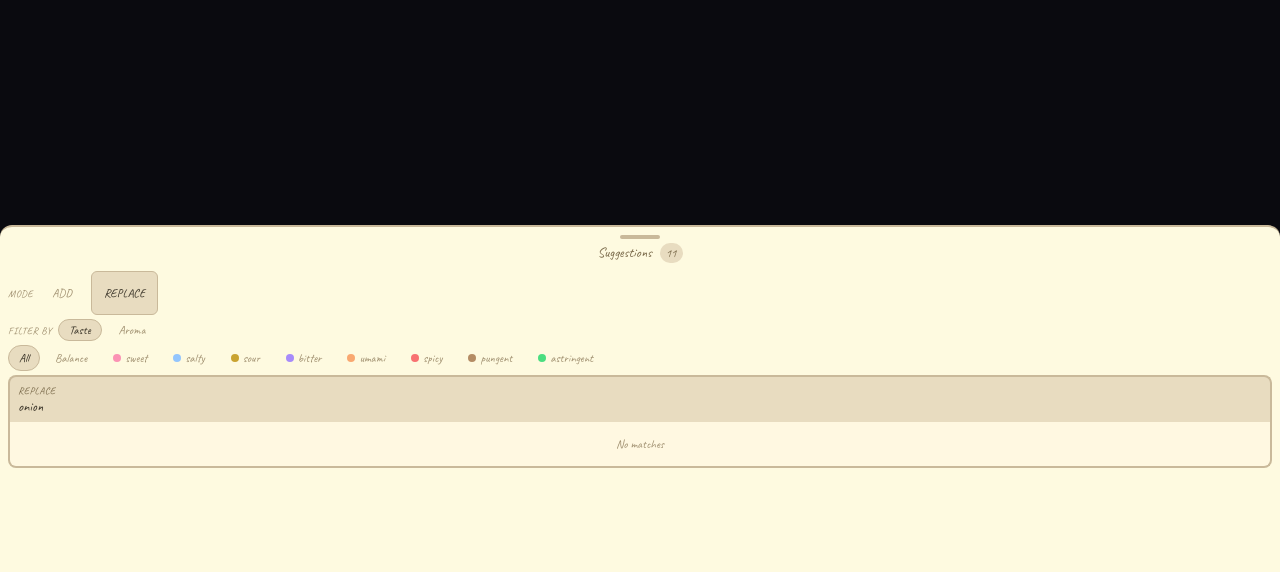
Test case: SuggestionDrawer ADD-mode rendering (AC-9, AC-11, AC-13, AC-15..AC-19, AC-25) › AC-12 (extension): ADD candidates do not include the bowl ingredient
Click the tab "ADD": click(62, 293) [39,271,85,315]
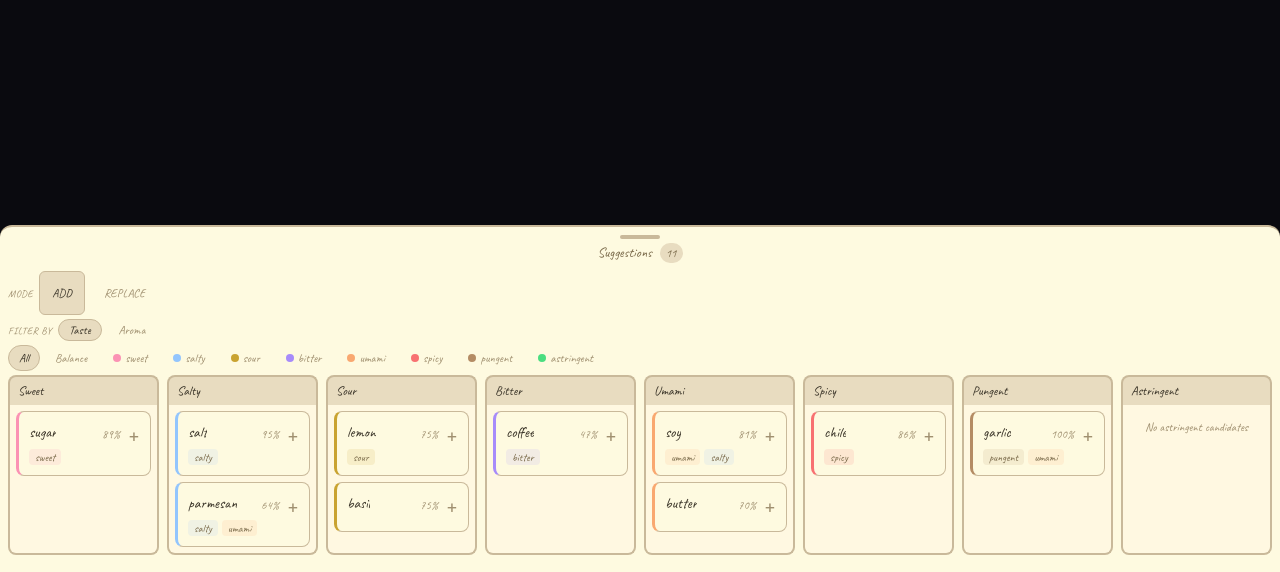
expect the text "onion" is gone: met
